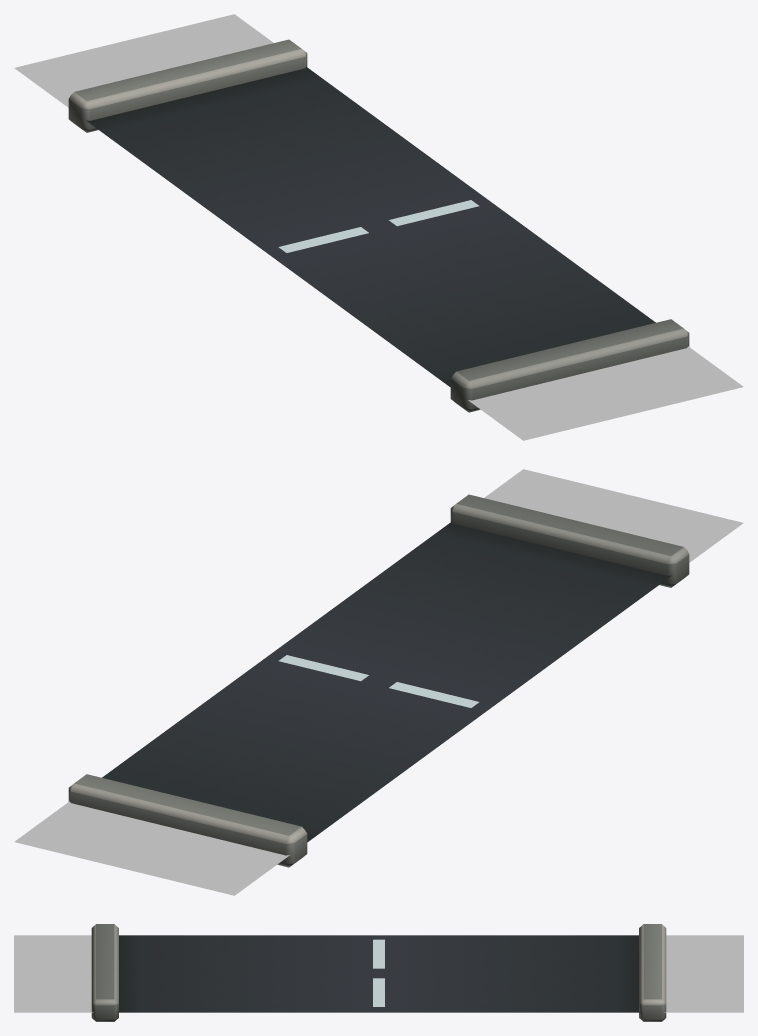
File: road_section_x2.fbx
3 renders of one model, top to bottom at view 1: azimuth 30°, elevation 25°; view 2: azimuth 150°, elevation 25°; view 3: azimuth 270°, elevation 25°, orthographic. The views are drawn at different scales.
Visible parts, largest first — view 1: road_section_x2, road_section_x2_sidewalk; view 2: road_section_x2, road_section_x2_sidewalk; view 3: road_section_x2, road_section_x2_sidewalk.
Part boxes in pixels (<box>): road_section_x2: <box>68,39,689,412</box>; road_section_x2_sidewalk: <box>14,14,743,440</box>; road_section_x2: <box>68,494,689,867</box>; road_section_x2_sidewalk: <box>14,469,743,895</box>; road_section_x2: <box>91,924,666,1021</box>; road_section_x2_sidewalk: <box>14,935,743,1012</box>.
Size of the model in its own units: 410 by 55 by 1600.
